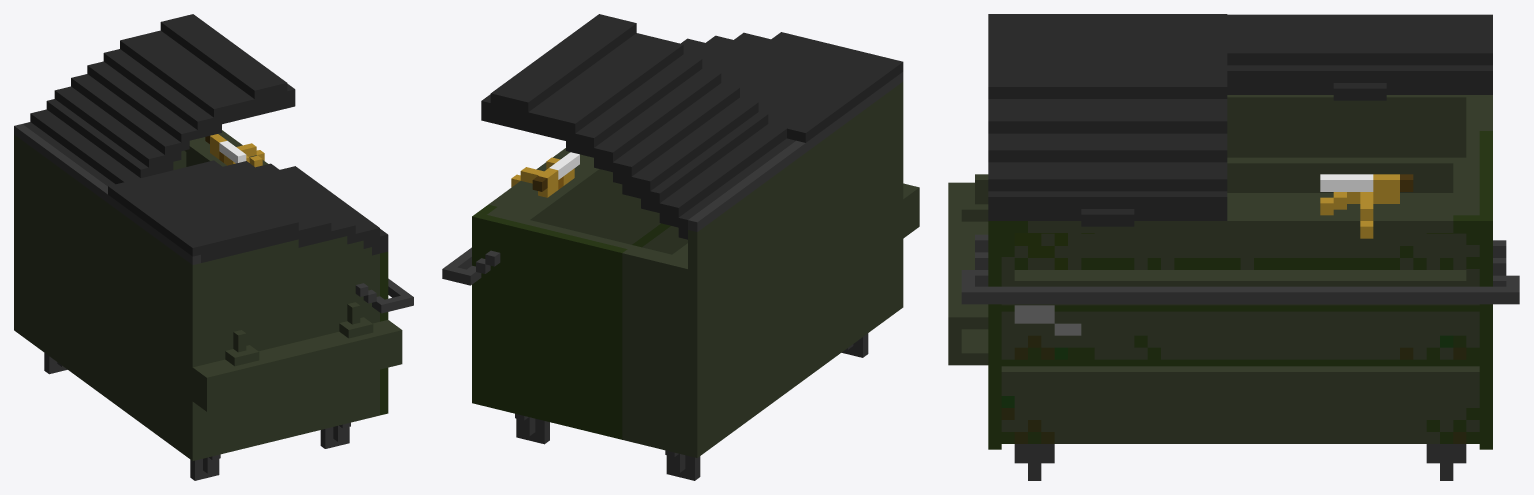
The model's file is drzewko-64.obj.
3 renders of one model, left to right at view 1: azimuth 30°, elevation 25°; view 2: azimuth 150°, elevation 25°; view 3: azimuth 270°, elevation 25°, orthographic. The views are drawn at different scales.
Size of the model in its own units: 2.6 by 3.6 by 4.3.
1 material, 1 textured.
